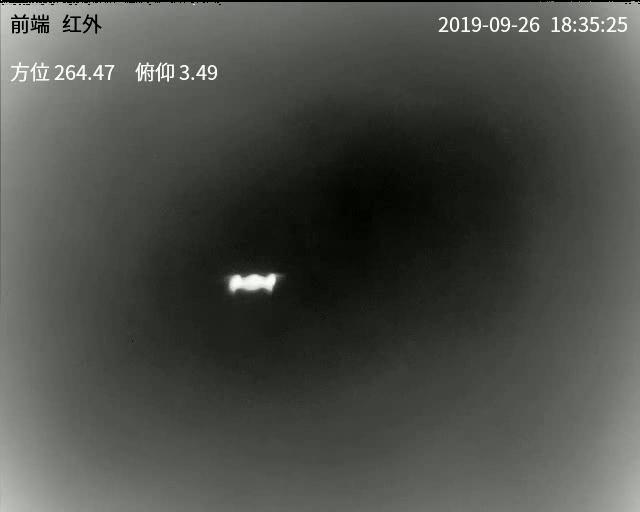DRONE: (226, 271, 279, 294)
